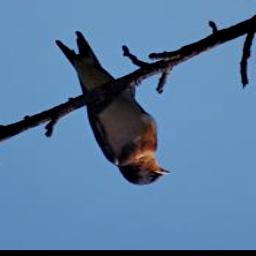Swallow: (55, 31, 170, 187)
